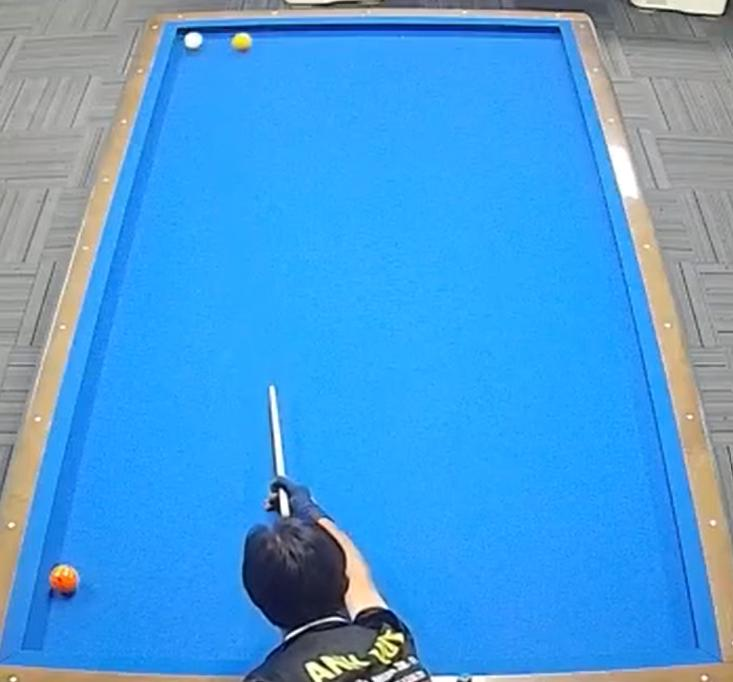orange ball: (45, 558, 81, 602)
white ball: (181, 30, 209, 54)
yellow ball: (227, 28, 256, 58)
